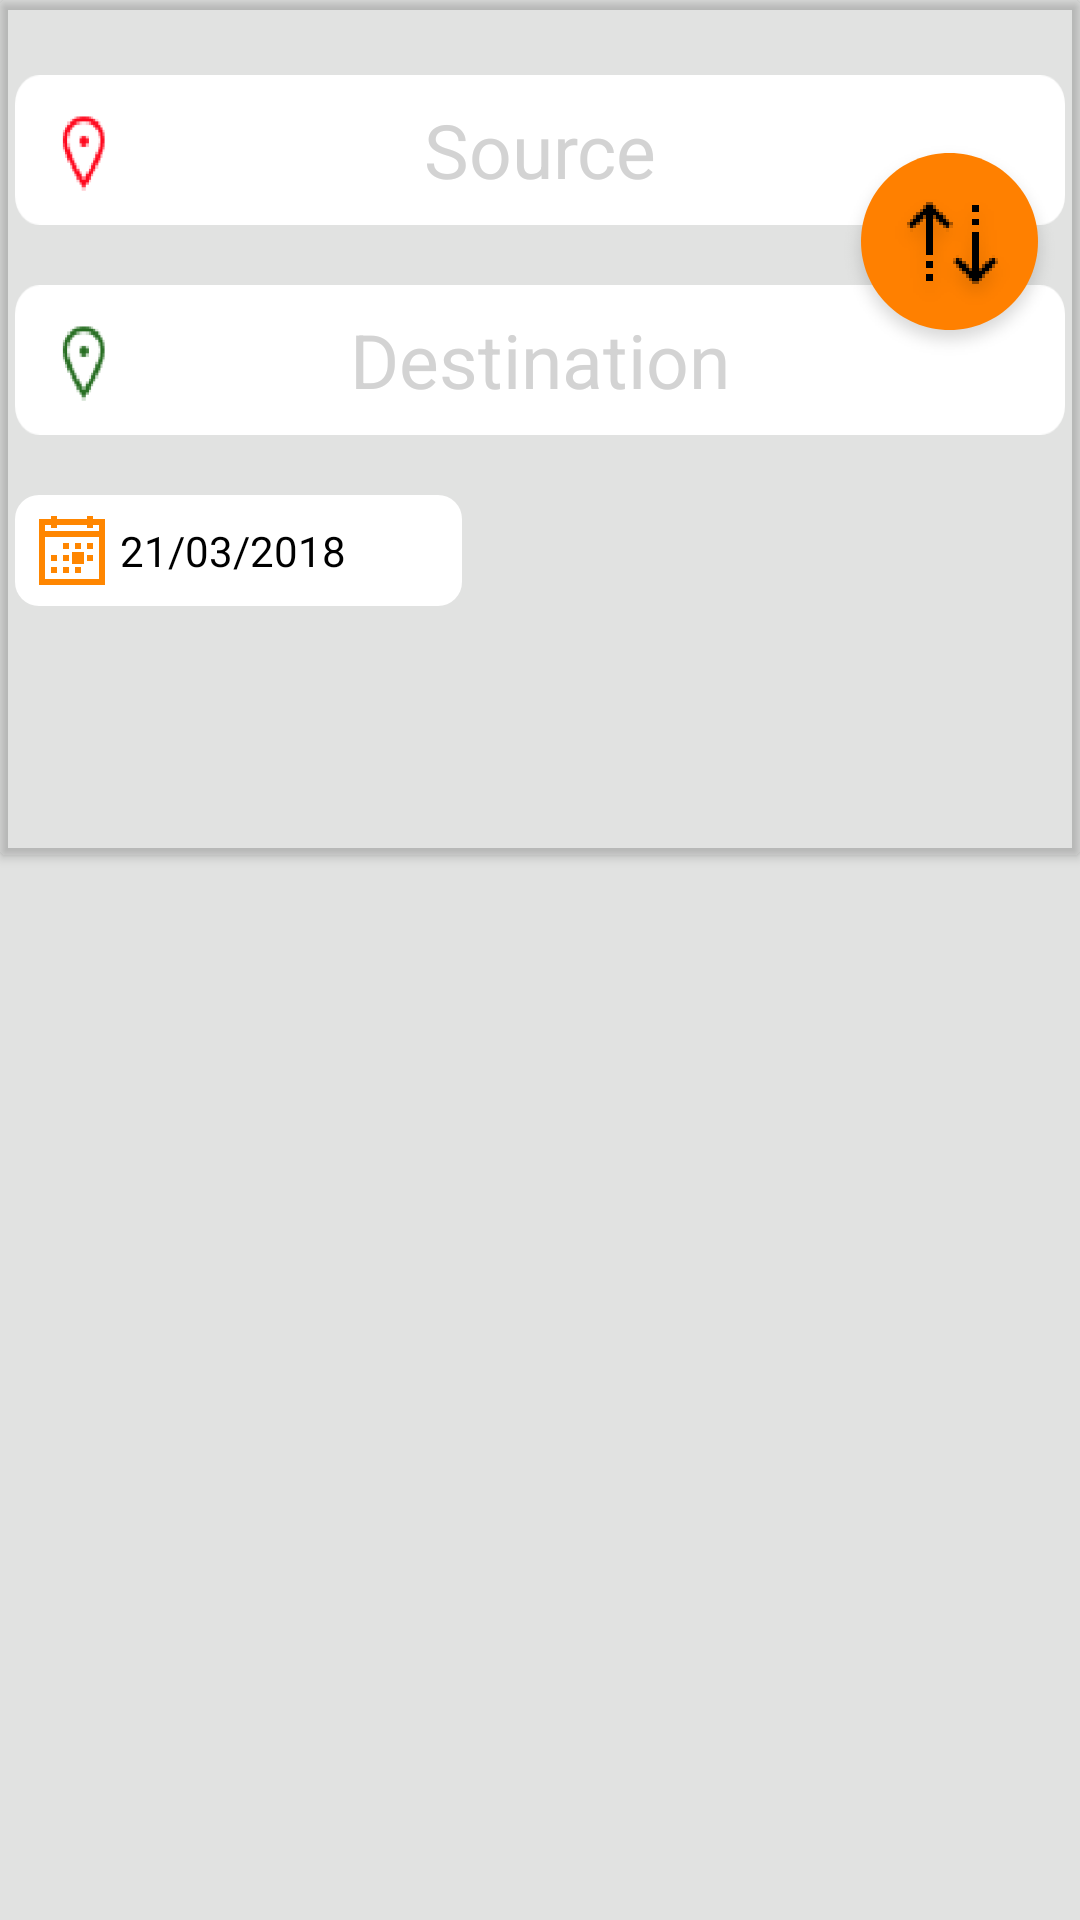

Named icons in this screenshot (1080 × 1920) and their centers, (x=x, y=y):
arrowtwist: (x=949, y=244)
